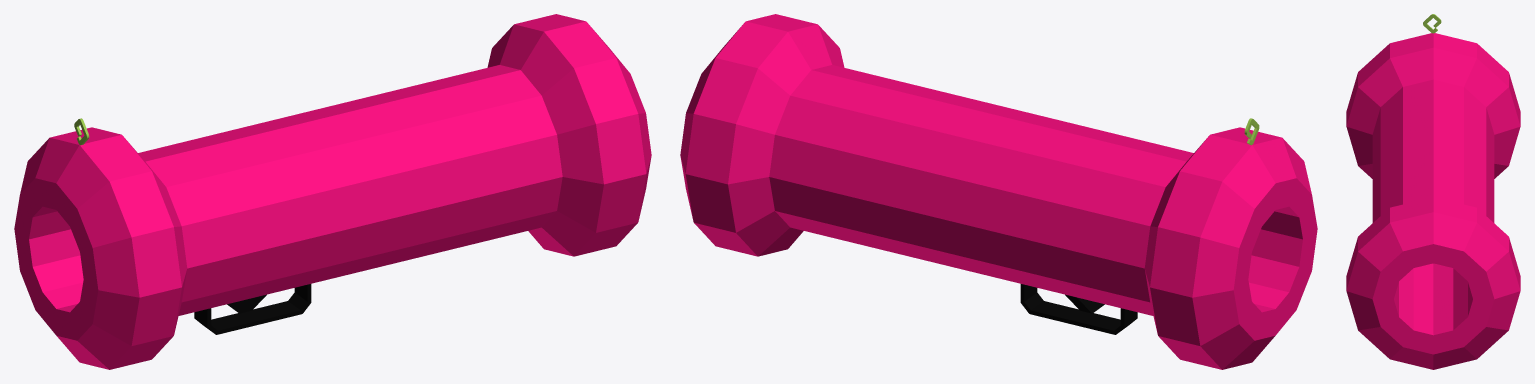
File: BAZOOKA.fbx
3 renders of one model, left to right at view 1: azimuth 30°, elevation 25°; view 2: azimuth 150°, elevation 25°; view 3: azimuth 270°, elevation 25°, orthographic. The views are drawn at different scales.
Visible parts, largest first — view 1: CUERPO, GATILLITO; view 2: CUERPO, GATILLITO; view 3: CUERPO, Curve.
Part boxes in pixels (<box>): CUERPO: <box>14,14,651,369</box>; GATILLITO: <box>194,284,311,334</box>; CUERPO: <box>680,14,1317,369</box>; GATILLITO: <box>1020,284,1137,334</box>; CUERPO: <box>1346,33,1520,369</box>; Curve: <box>1423,14,1441,33</box>.
Size of the model in its own units: 760 by 320 by 286.
